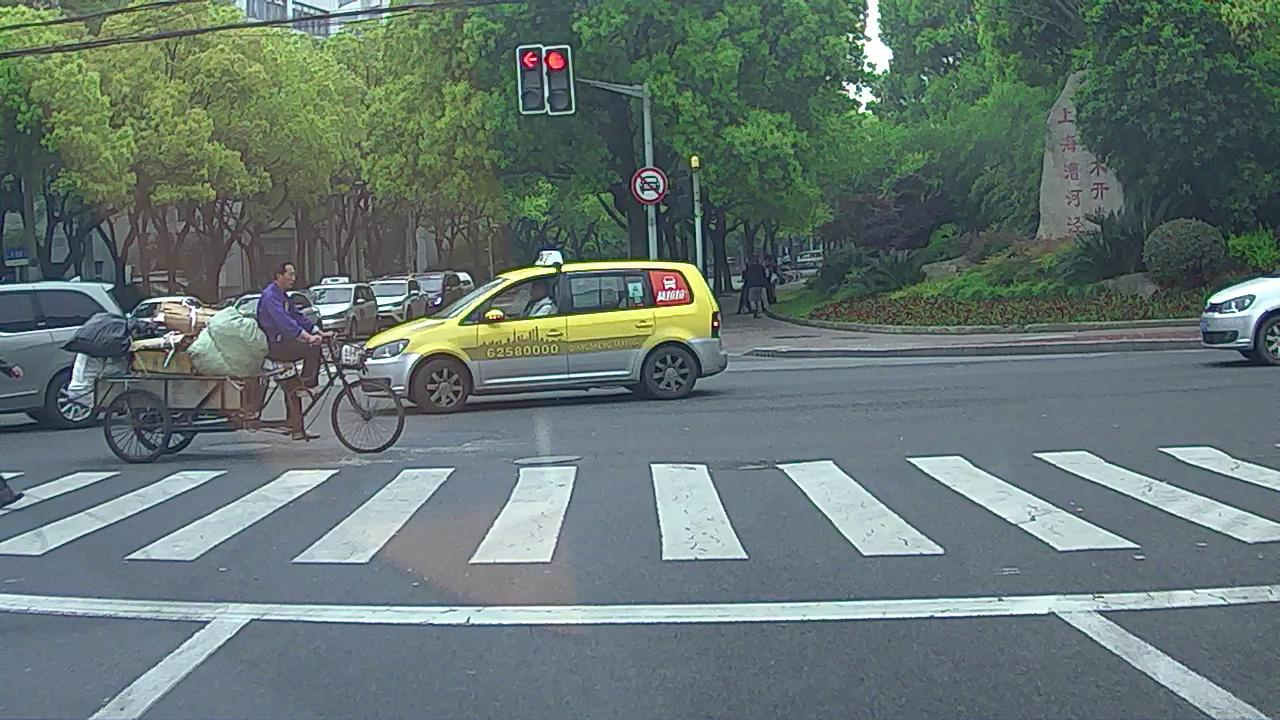traffic_light: (547, 46, 574, 114), (518, 47, 545, 112)
